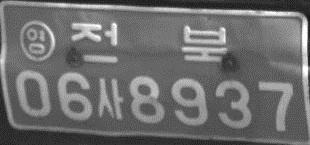0: (13, 68, 51, 119)
3: (214, 79, 253, 129)
6: (56, 71, 93, 122)
7: (257, 80, 294, 131)
8: (128, 75, 166, 125)
9: (170, 77, 210, 126)
사: (96, 78, 124, 119)
영: (18, 18, 56, 62)
전북_D: (70, 20, 229, 67)
